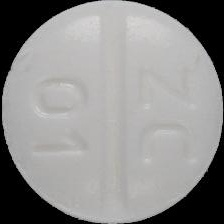51655-112: (0, 0, 224, 224)
